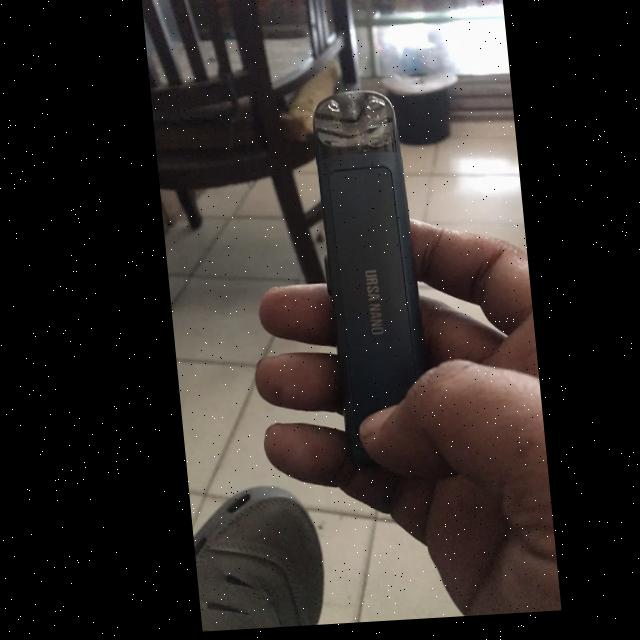vape: (305, 94, 424, 505)
